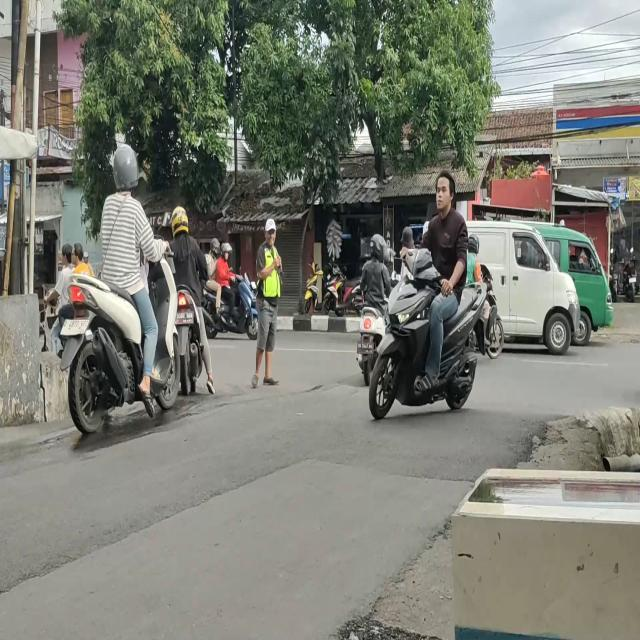helmet: (115, 144, 137, 191), (171, 208, 188, 235), (372, 233, 386, 258), (468, 234, 480, 252), (222, 244, 232, 260), (212, 238, 220, 258)
no-helmet: (435, 174, 454, 208)
